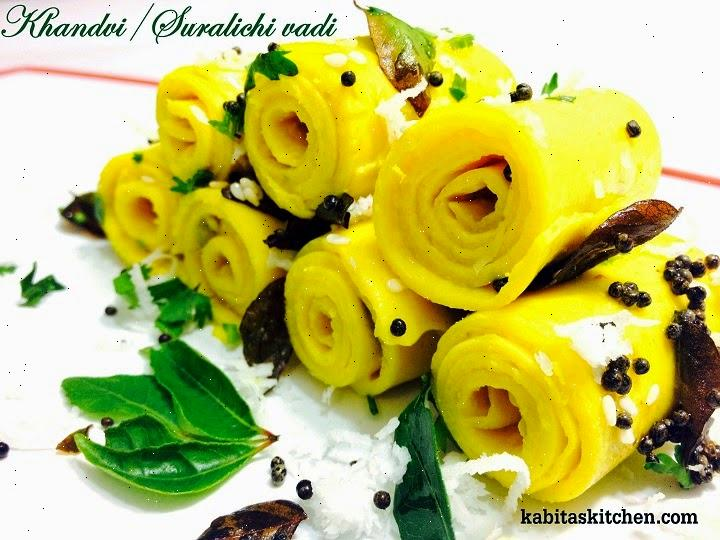khandvi: (77, 44, 720, 507)
